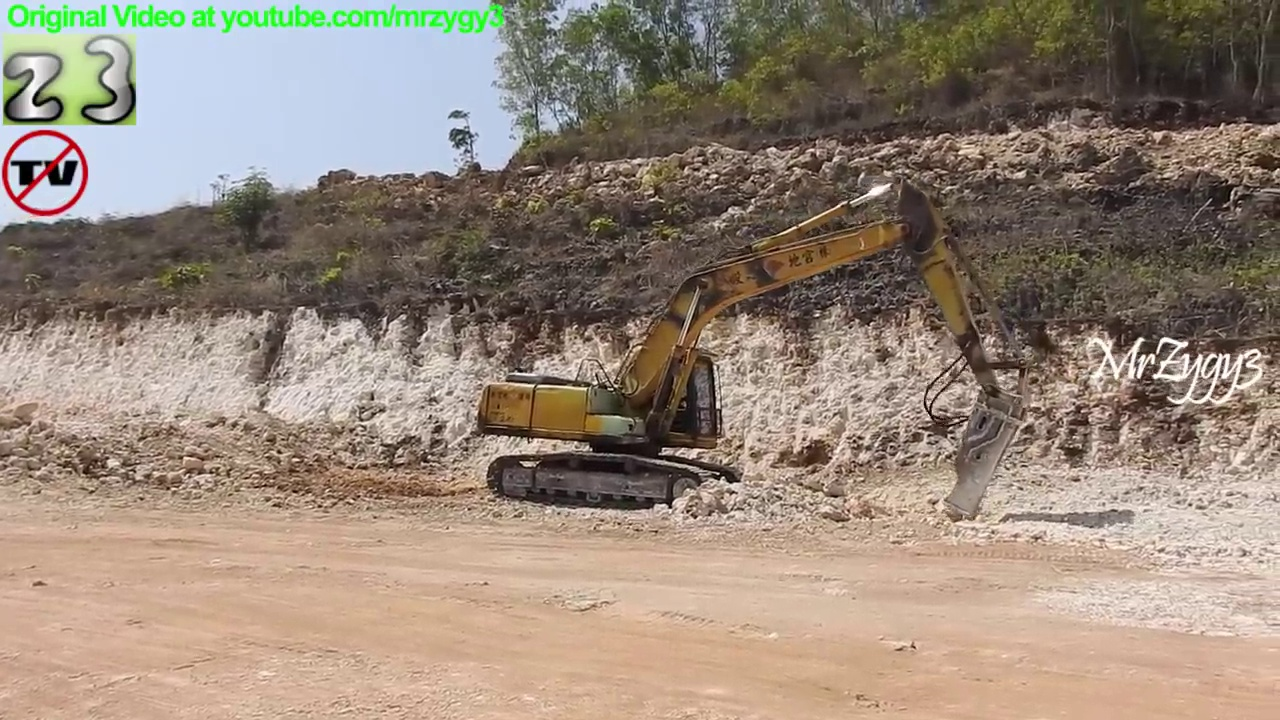excavator breaker: (474, 179, 1037, 531)
